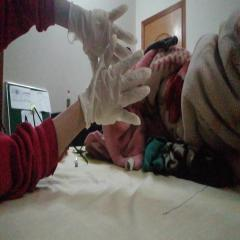gloved: (82, 32, 152, 125), (68, 0, 138, 77)
